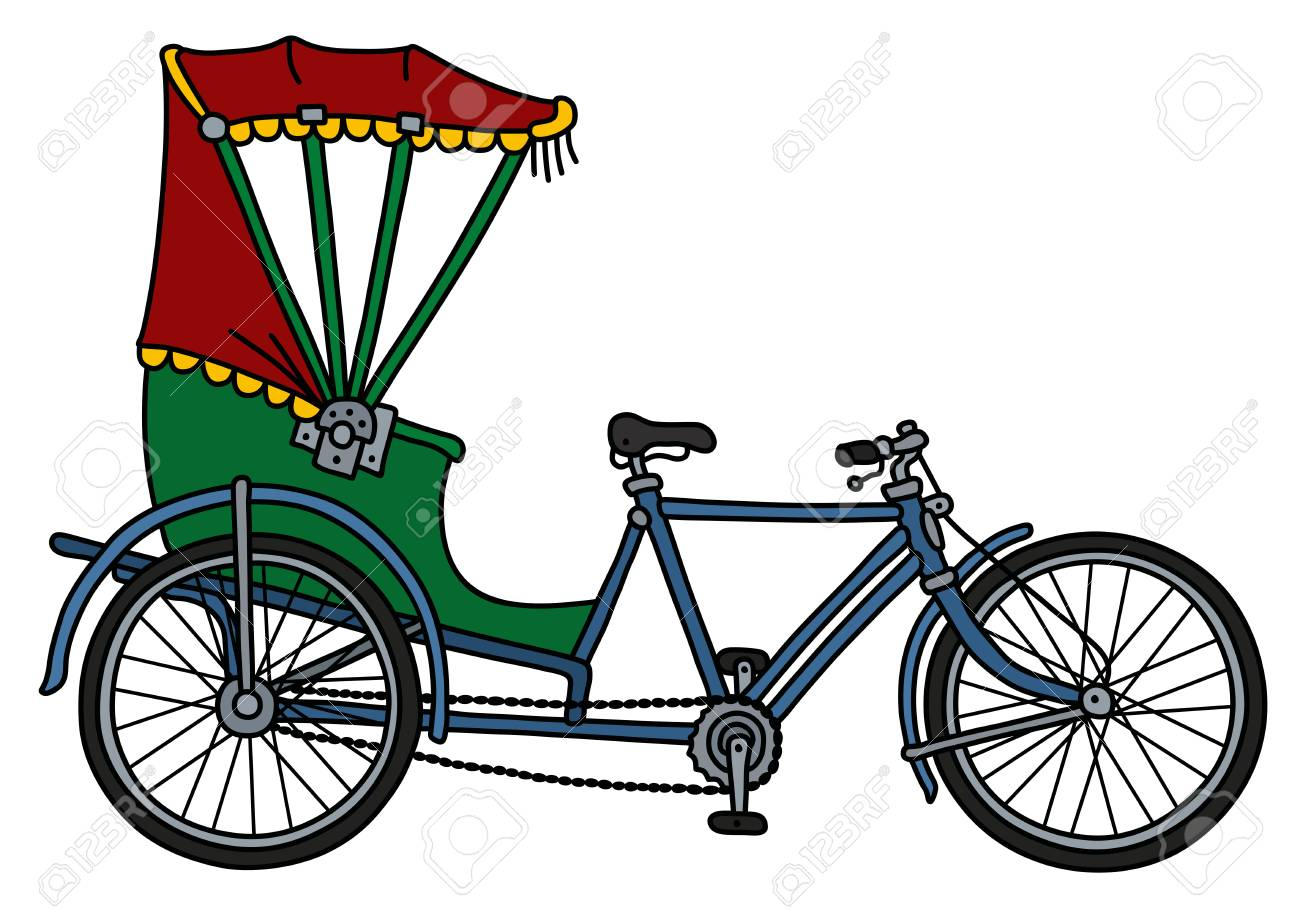Rickshaw: (44, 31, 1240, 870)
